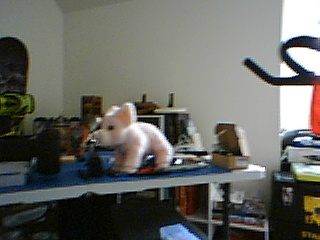piggy: (94, 101, 175, 175)
